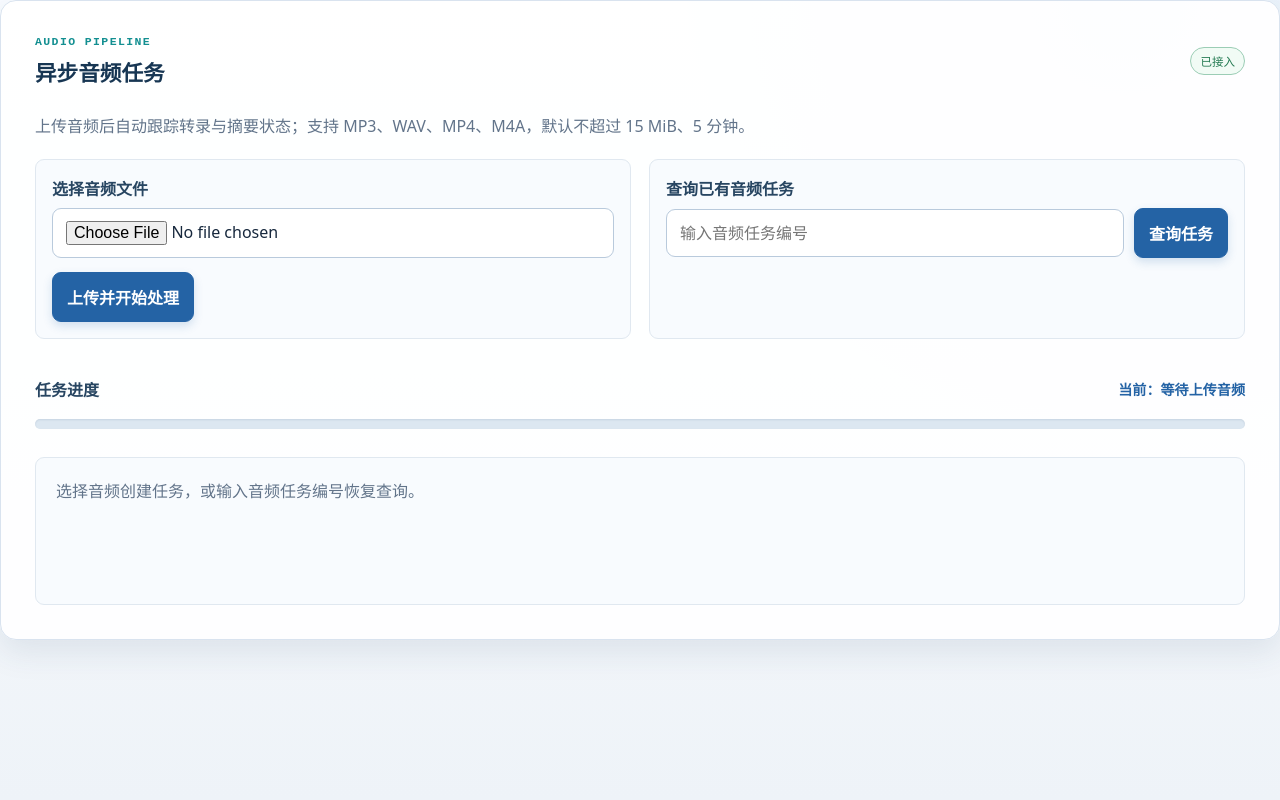
Scenario: AudioJobPanel › treats JOB_NOT_FOUND as a terminal lookup error
This screenshot has width=1280, height=800.
Step 1. Type "123e4567-e89b-42d3-a456-426614174000" into the field labelled "查询已有音频任务" → (895, 233), box 666,209 -> 1124,257
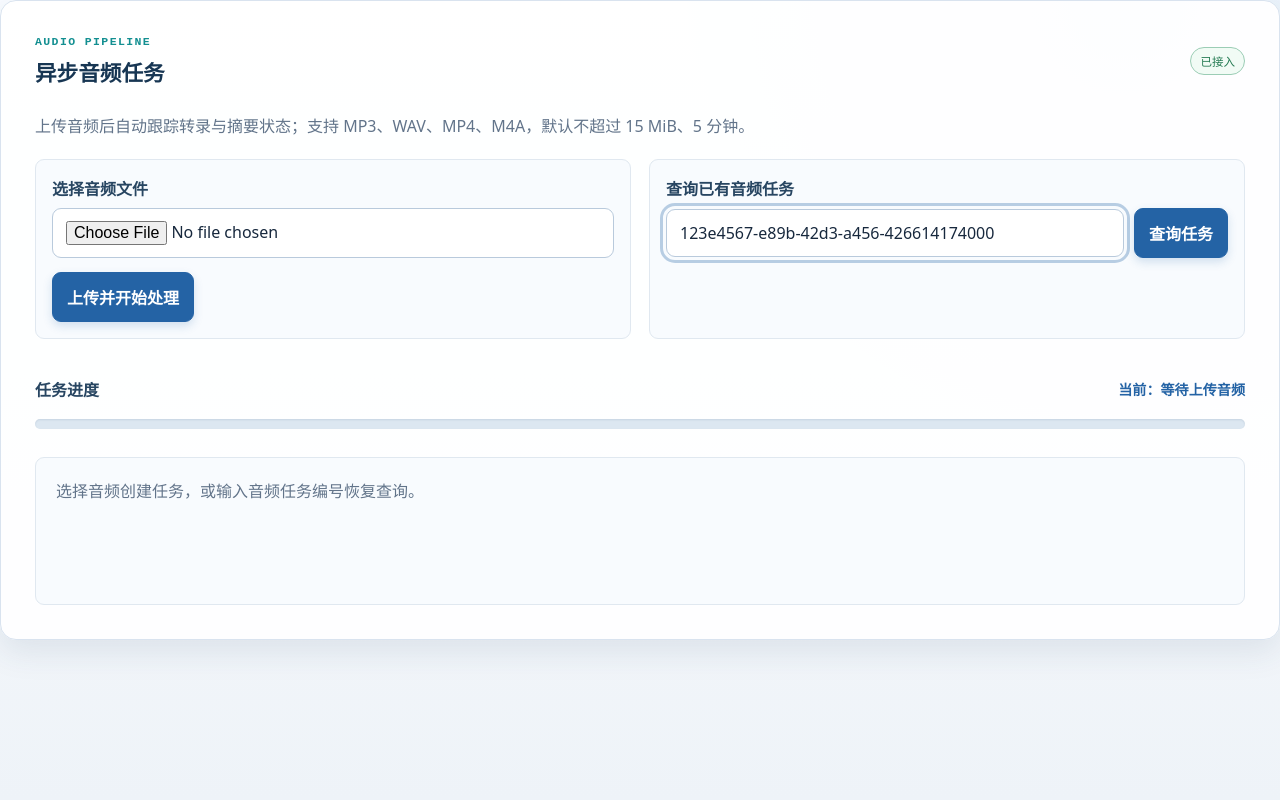
Step 2. Click the button "查询任务" → (1181, 233), box 1134,208 -> 1228,258
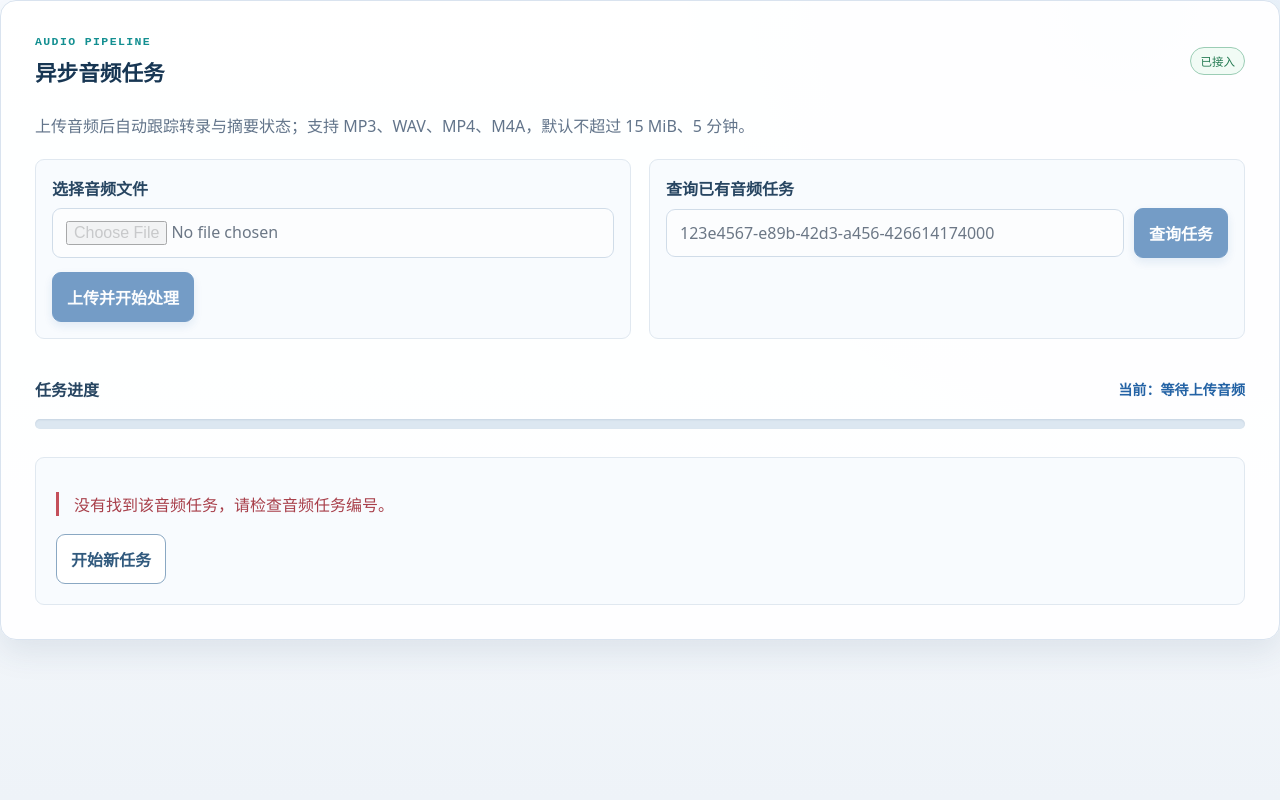
Check: the text "没有找到该音频任务，请检查音频任务编号。" is shown, box 74,494 -> 394,516
